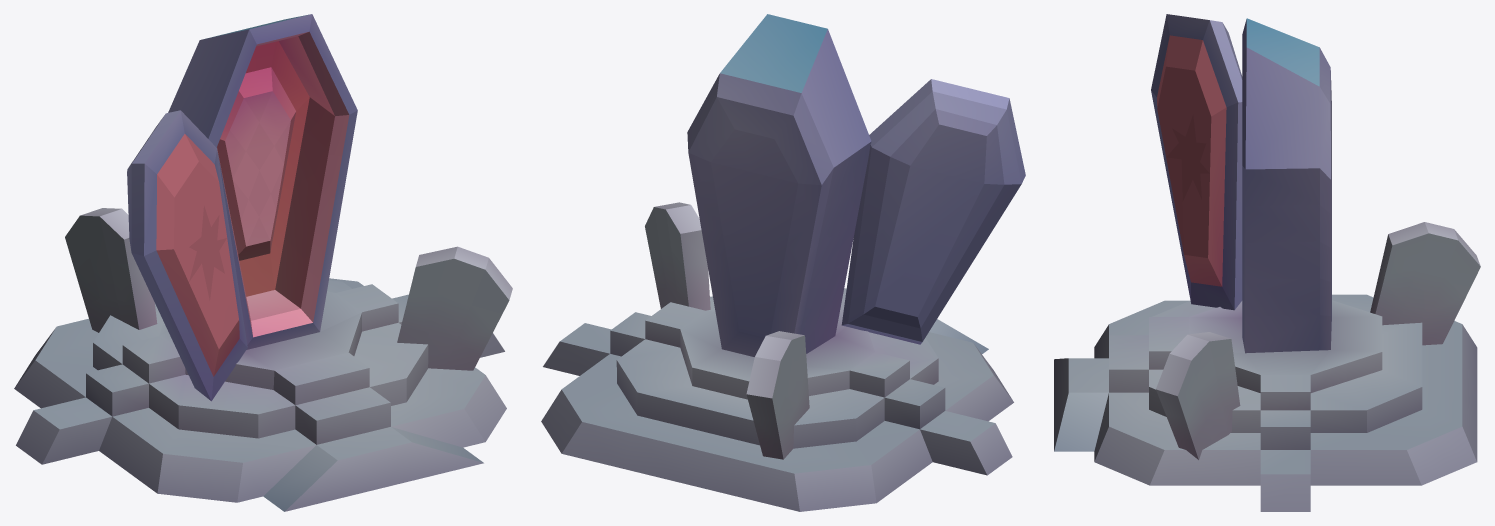
File: coffin.glb
The picture shows the model from 3 angles, left to right: view 1: azimuth 30°, elevation 25°; view 2: azimuth 150°, elevation 25°; view 3: azimuth 270°, elevation 25°; orthographic projection. The views are drawn at different scales.
Parts seen in each view (by area): view 1: coffin; view 2: coffin; view 3: coffin.
Boxes of the visible parts, left/top/right/bottom form: coffin: left=14, top=14, right=512, bottom=511; coffin: left=541, top=14, right=1025, bottom=511; coffin: left=1054, top=14, right=1480, bottom=511.
Size of the model in its own units: 2.88 by 2.33 by 2.42.
